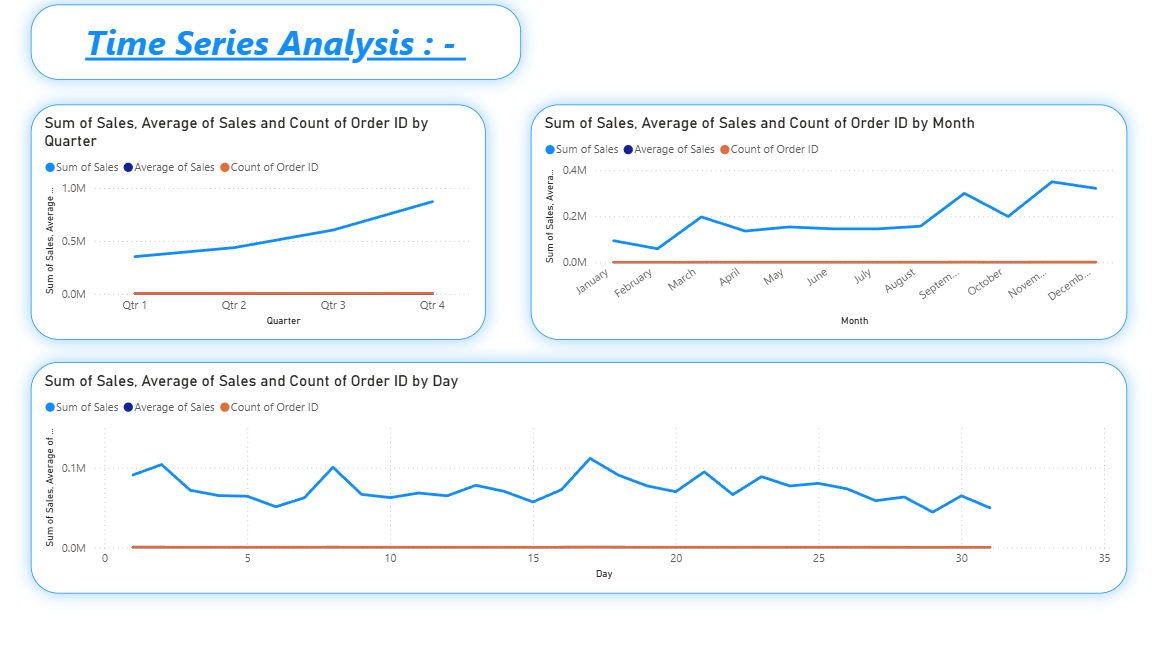

Layout of this report page (visuals, bound fields, positions):
{"tool":"powerbi","page":{"name":"Page 2","canvas":[1280,720],"ordinal":1},"visuals":[{"type":"textbox","box":[36.6,13.6,531.6,81.4],"z":0},{"type":"lineChart","fields":{"Category":["train.Order Date.Variation.Date Hierarchy.Quarter"],"Y":["Sum(train.Sales)","Avg(train.Sales)","CountNonNull(train.Order ID)"]},"box":[36.6,122.1,493.7,255],"z":1000},{"type":"lineChart","fields":{"Category":["train.Order Date.Variation.Date Hierarchy.Month"],"Y":["Sum(train.Sales)","Avg(train.Sales)","CountNonNull(train.Order ID)"]},"box":[579.1,122.1,646.9,255],"z":2000},{"type":"lineChart","fields":{"Y":["Sum(train.Sales)","Avg(train.Sales)","CountNonNull(train.Order ID)"],"Category":["train.Order Date.Variation.Date Hierarchy.Day"]},"box":[36.6,401.4,1189.4,250.9],"z":3000}]}

Visuals, with their boxes in screenshot pixels (x1, y1, x2, y2), scaled from the page's 1280x720 canvas onto the 1162x650 screenshot:
textbox: detection(33, 12, 516, 86)
lineChart - train.Order Date.Variation.Date Hierarchy.Quarter x Sum(train.Sales): detection(33, 110, 481, 340)
lineChart - train.Order Date.Variation.Date Hierarchy.Month x Sum(train.Sales): detection(526, 110, 1113, 340)
lineChart - Sum(train.Sales) x Avg(train.Sales): detection(33, 362, 1113, 589)
